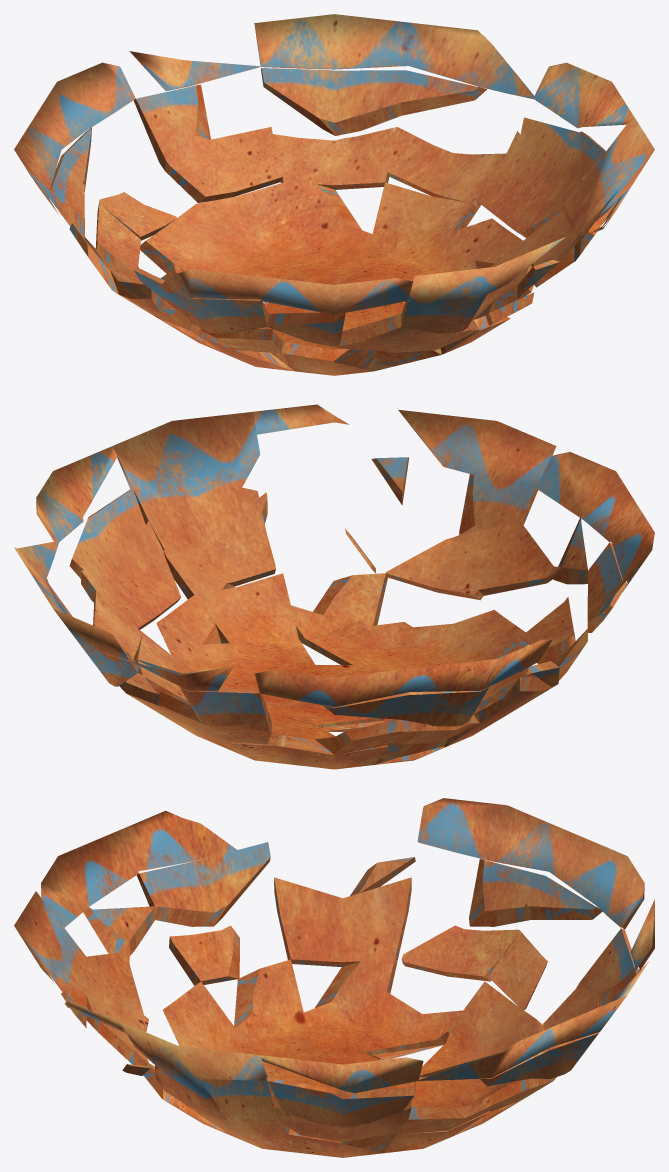
File: plate.fbx
3 renders of one model, top to bottom at view 1: azimuth 30°, elevation 25°; view 2: azimuth 150°, elevation 25°; view 3: azimuth 270°, elevation 25°, orthographic. The views are drawn at different scales.
Parts seen in each view (by area): view 1: plate_cell, plate_cell.008, plate_cell.037, plate_cell.039, plate_cell.041, plate_cell.002, plate_cell.040, plate_cell.011, plate_cell.003, plate_cell.033, plate_cell.005, plate_cell.029 (+38 smaller); view 2: plate_cell.005, plate_cell.006, plate_cell.032, plate_cell.053, plate_cell.041, plate_cell.033, plate_cell.042, plate_cell.011, plate_cell.003, plate_cell.004, plate_cell.048, plate_cell.013 (+37 smaller); view 3: plate_cell.056, plate_cell.013, plate_cell.029, plate_cell.033, plate_cell.011, plate_cell.005, plate_cell.004, plate_cell.017, plate_cell.052, plate_cell.006, plate_cell.014, plate_cell.003 (+36 smaller).
Part boxes in pixels (x1,y1,x2,y2): plate_cell: (254,14,414,69); plate_cell.008: (261,68,406,135); plate_cell.037: (151,127,282,202); plate_cell.039: (272,127,397,189); plate_cell.041: (476,131,583,238); plate_cell.002: (407,23,534,99); plate_cell.040: (387,127,506,208); plate_cell.011: (35,62,135,149); plate_cell.003: (533,62,633,128); plate_cell.033: (254,276,412,314); plate_cell.005: (578,116,654,234); plate_cell.029: (133,267,267,333); plate_cell.005: (112,411,260,535); plate_cell.006: (133,476,275,588); plate_cell.032: (398,409,556,488); plate_cell.053: (386,521,519,600); plate_cell.041: (81,521,181,629); plate_cell.033: (536,452,637,542); plate_cell.042: (163,492,267,599); plate_cell.011: (255,668,415,707); plate_cell.003: (36,446,117,541); plate_cell.004: (69,488,145,578); plate_cell.048: (215,605,315,671); plate_cell.013: (409,639,552,691); plate_cell.056: (274,877,411,966); plate_cell.013: (417,798,566,871); plate_cell.029: (136,842,270,926); plate_cell.033: (41,831,138,927); plate_cell.011: (548,831,644,929); plate_cell.005: (118,1020,267,1112); plate_cell.004: (267,1077,414,1128); plate_cell.017: (118,810,236,871); plate_cell.052: (401,925,518,981); plate_cell.006: (155,1068,282,1132); plate_cell.014: (469,859,545,926); plate_cell.003: (260,1055,423,1092).
Size of the model in its own units: 16679 by 4787 by 16950.
